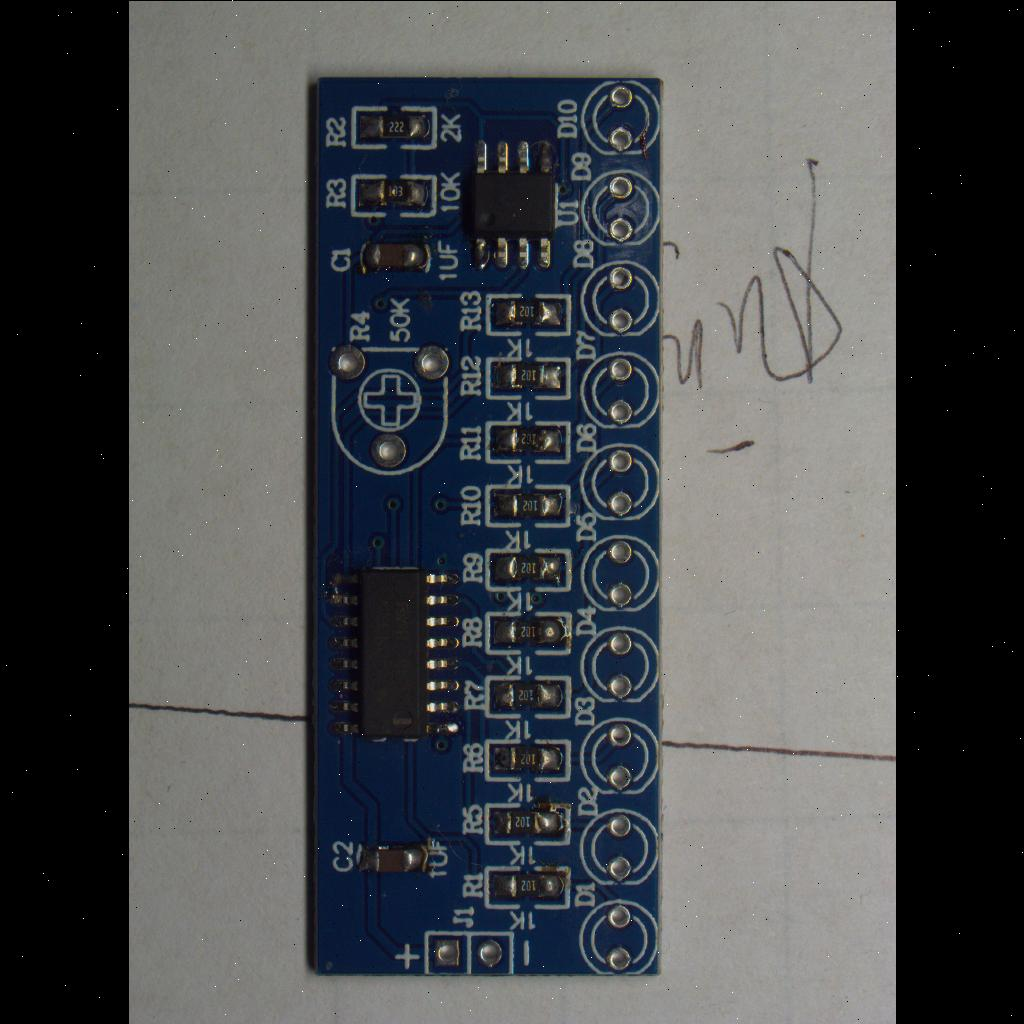OK: (320, 558, 468, 746), (461, 130, 561, 274), (482, 860, 574, 912), (484, 670, 574, 722), (348, 832, 440, 882), (482, 545, 574, 595), (482, 734, 572, 784), (482, 608, 574, 656), (482, 290, 574, 336), (482, 801, 574, 847), (482, 418, 570, 466), (484, 356, 572, 402), (484, 482, 572, 528), (352, 102, 434, 148), (350, 172, 432, 218), (355, 238, 431, 274)
